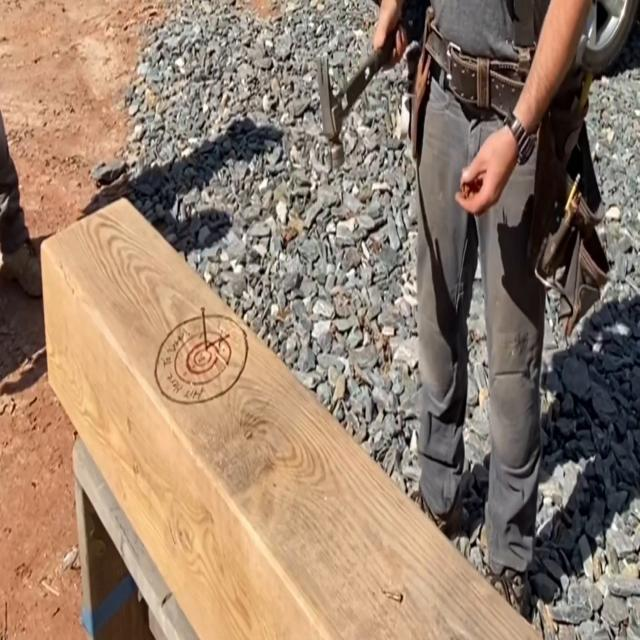hammer: (314, 23, 409, 174)
